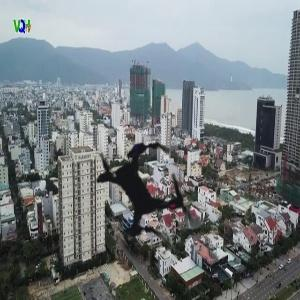drone: (58, 100, 239, 281)
